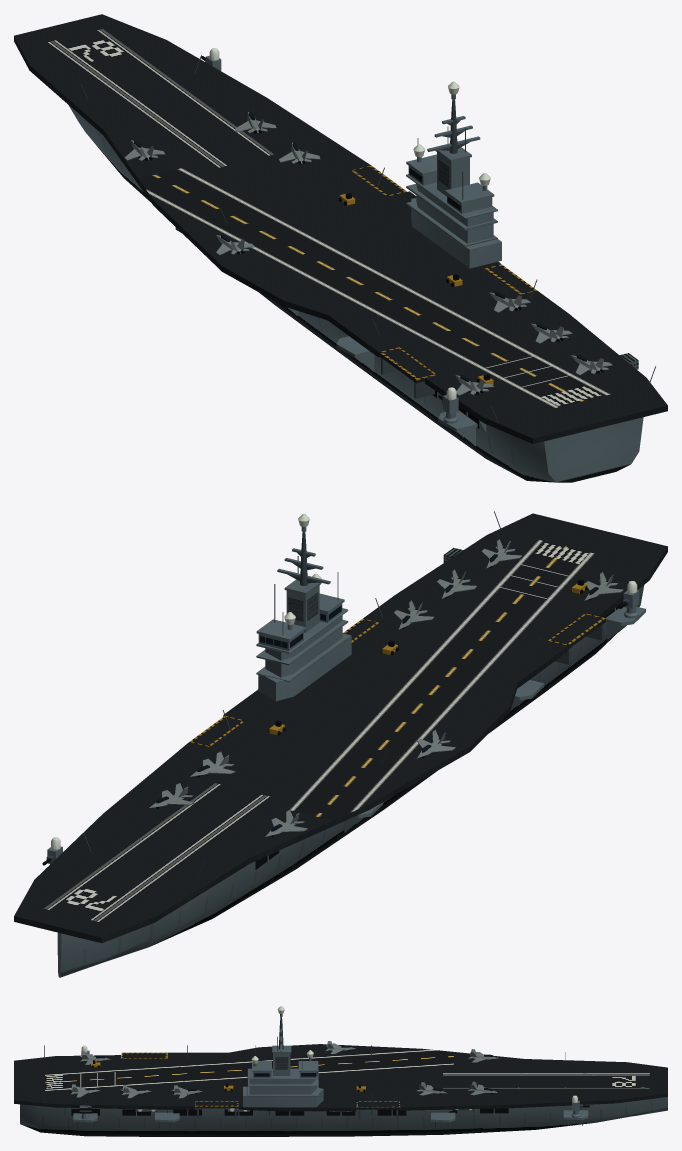
File: aircraft_carrier.glb
The picture shows the model from 3 angles, top to bottom: view 1: azimuth 30°, elevation 25°; view 2: azimuth 150°, elevation 25°; view 3: azimuth 270°, elevation 25°; orthographic projection. The views are drawn at different scales.
Visible parts, largest first — view 1: deck, hull, island, aircraft, elevators, fittings, mast, defense; view 2: deck, hull, island, aircraft, elevators, fittings, mast, defense; view 3: deck, hull, island, aircraft, fittings, elevators, defense, mast.
Part boxes in pixels (x1,y1,x2,y2): deck: (14,14,667,443); hull: (68,105,643,482); island: (406,147,501,268); aircraft: (124,112,612,395); elevators: (351,165,537,383); fittings: (81,55,655,446); mast: (413,81,490,199); defense: (201,48,638,423); deck: (14,513,667,943); hull: (57,585,644,977); island: (256,579,351,701); aircraft: (149,539,623,837); elevators: (189,613,605,746); fittings: (84,511,658,878); mast: (274,514,338,634); defense: (42,547,639,865); deck: (14,1044,667,1111); hull: (20,1097,667,1136); island: (243,1045,323,1107); aircraft: (69,1041,498,1098); fittings: (44,1045,588,1128); elevators: (121,1052,399,1109); defense: (79,1045,589,1119); mast: (251,1006,315,1068).
Bounding box in the file's own units: 15.3 × 15.05 × 64.
Materials: 1 (1 with a texture image).
